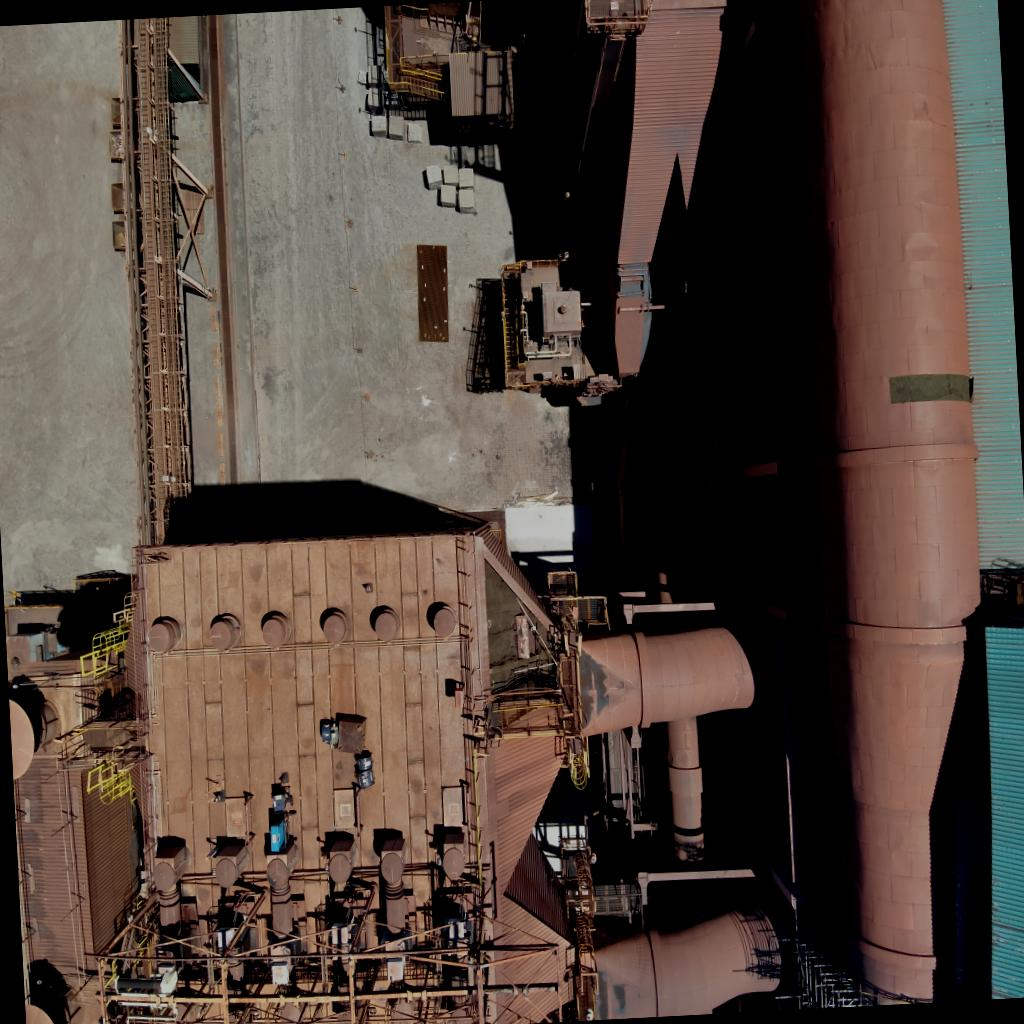Failures: (481, 550, 562, 716), (888, 368, 978, 410)
